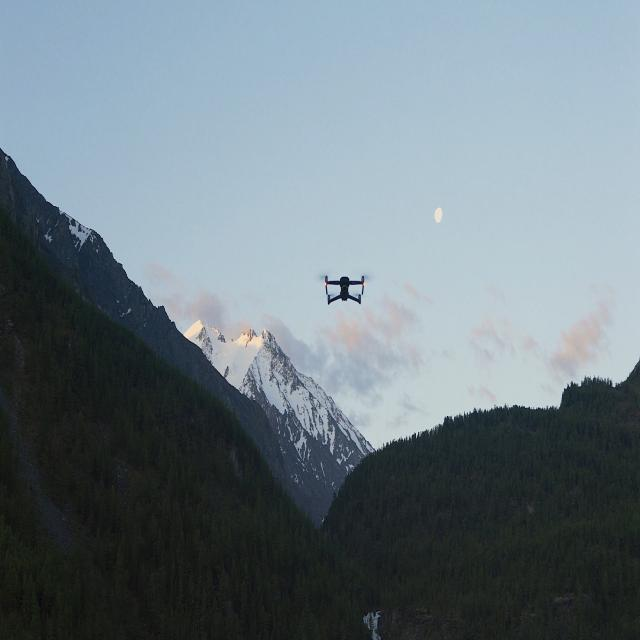Drone: (322, 271, 370, 305)
